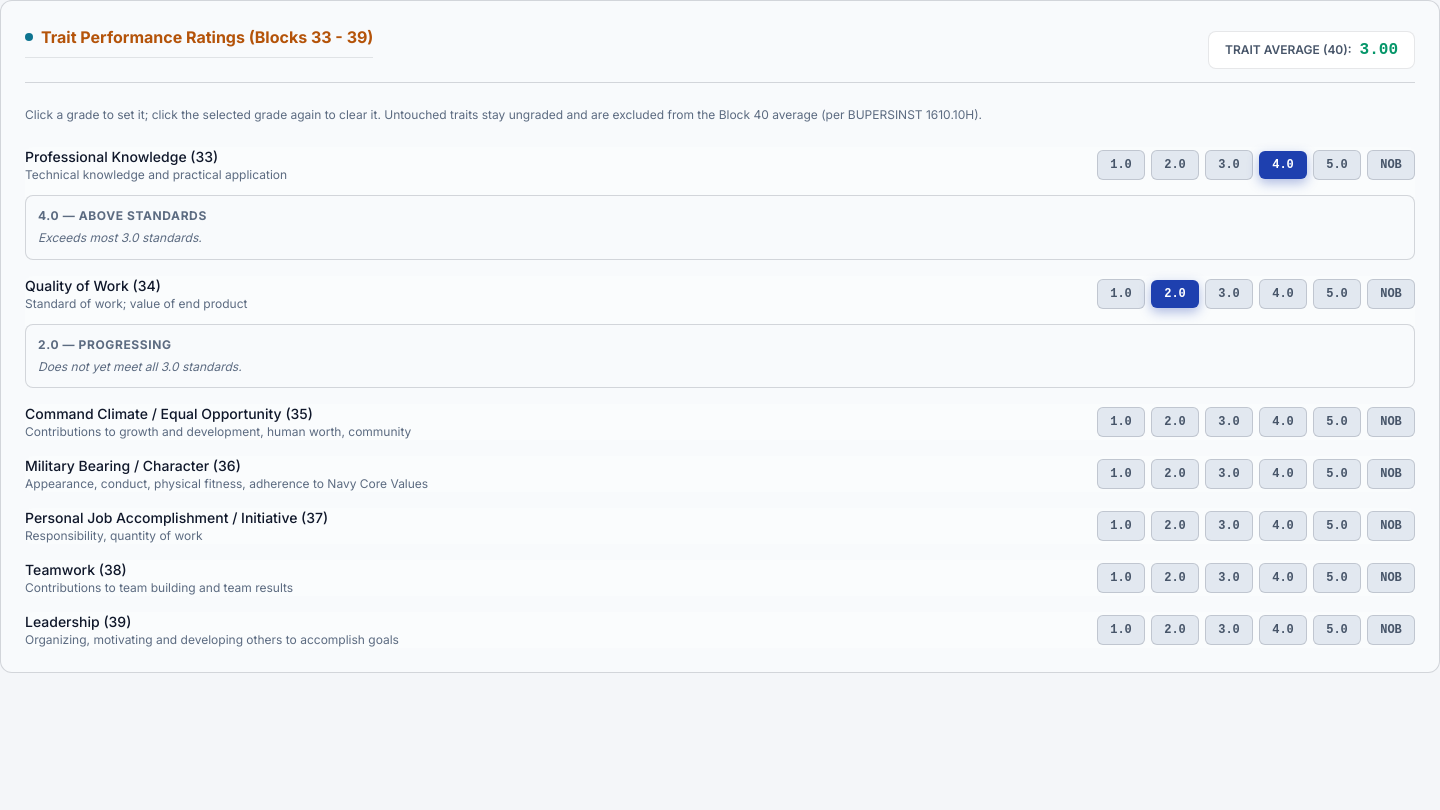
it: Trait section average (Block 40) › clears a trait when its active grade is clicked again (toggle to ungraded)
expect the text "3.00" is shown: met, box [1360,38,1398,62]
Click the button "4.0" in the row of "Professional Knowledge (33)" at (1283, 165), box [1259,151,1307,179]
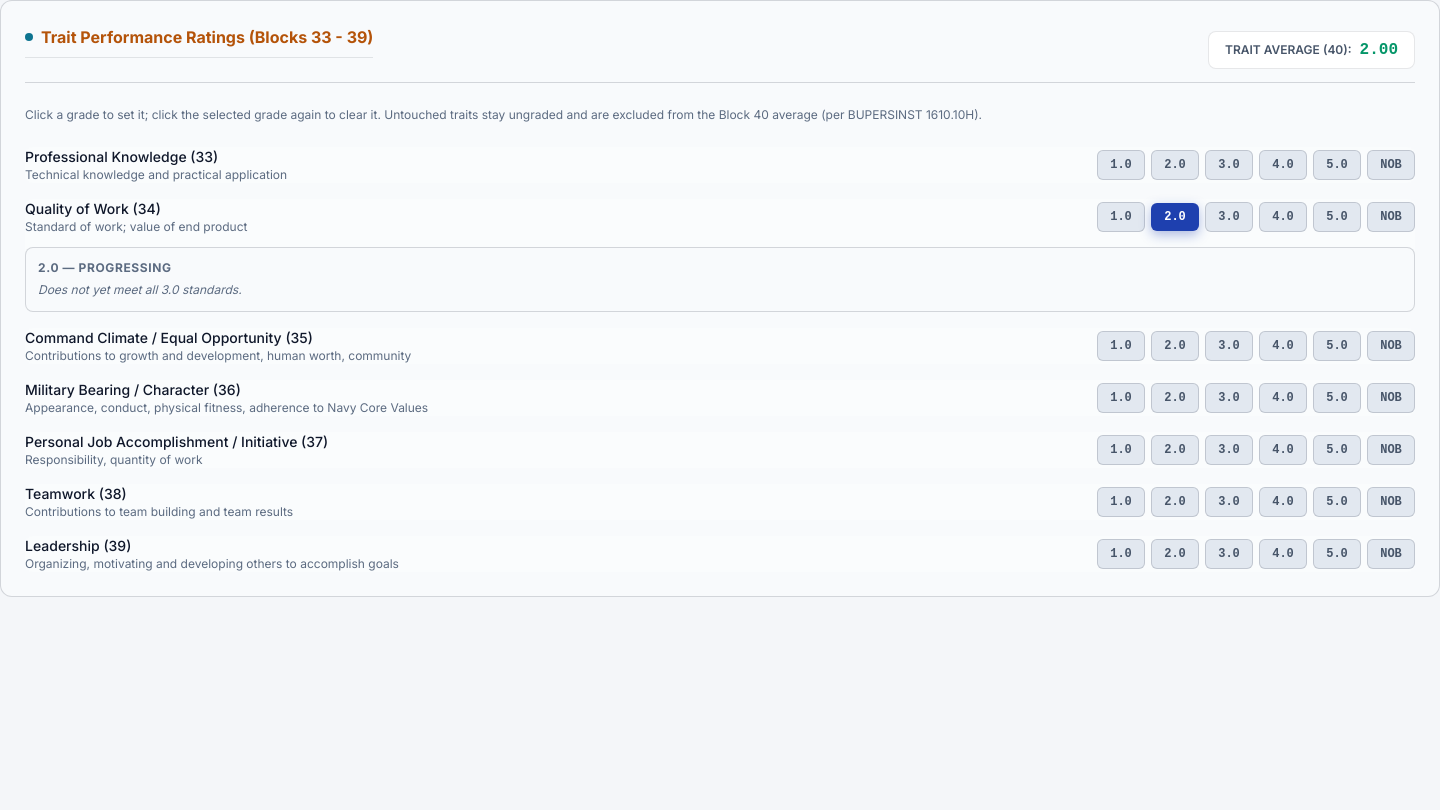
expect the text "2.00" is shown: met, box [1360,38,1398,62]
